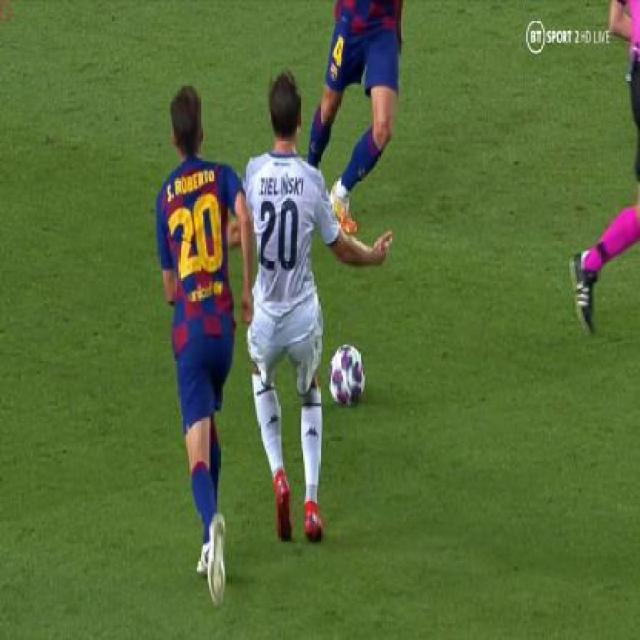ball: (325, 336, 370, 412)
player: (215, 48, 381, 553), (139, 55, 268, 588), (303, 0, 420, 238), (576, 0, 639, 342)
